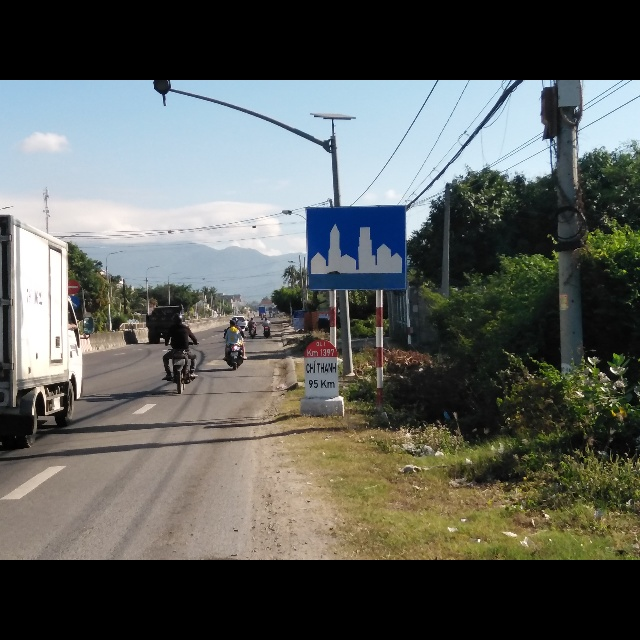Khu đông dân cư: (307, 203, 411, 290)
